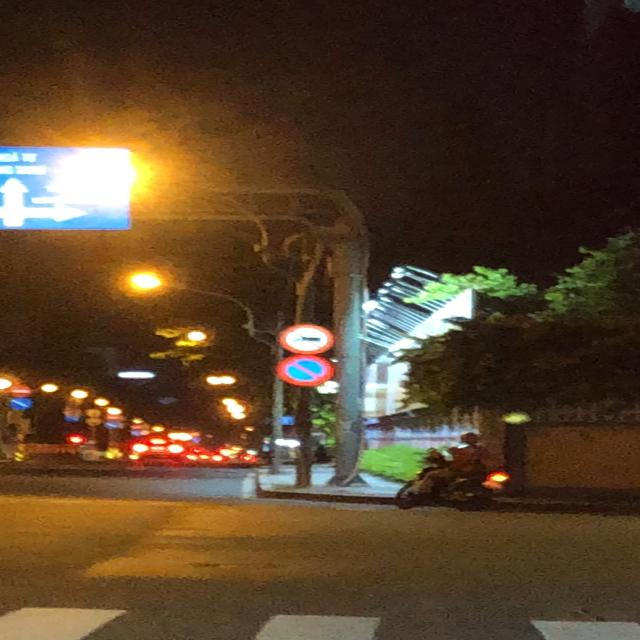Bien bao cam xe so-mi ro-mooc: (271, 319, 343, 356)
